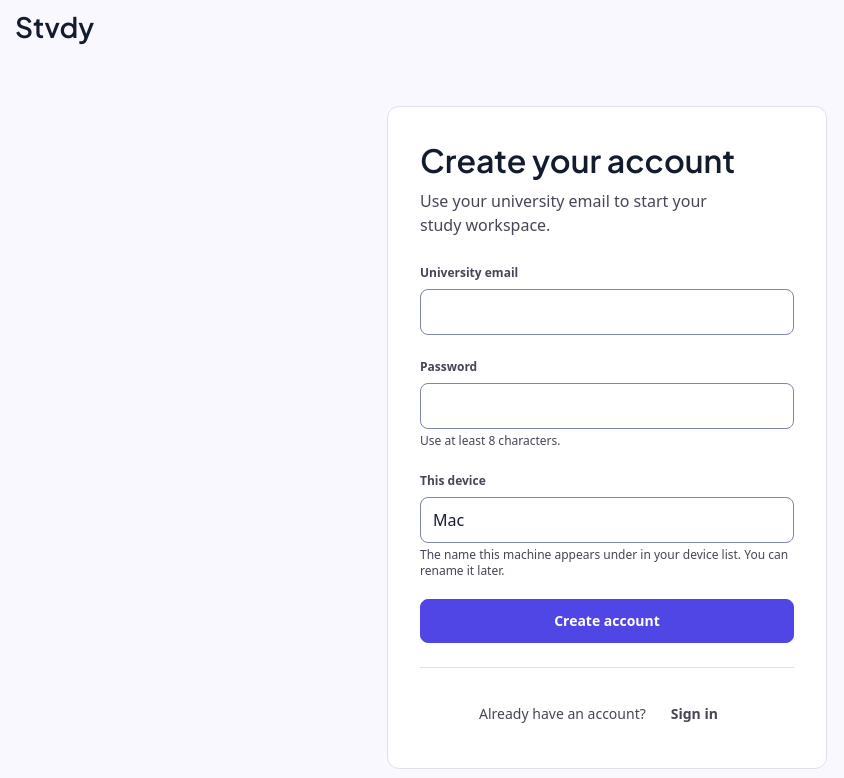
Test: signing up › puts a validation failure on the field it names
The image size is (844, 778).
In the field labelled "University email": (607, 312) [420,289,794,335], type "student@example.com"
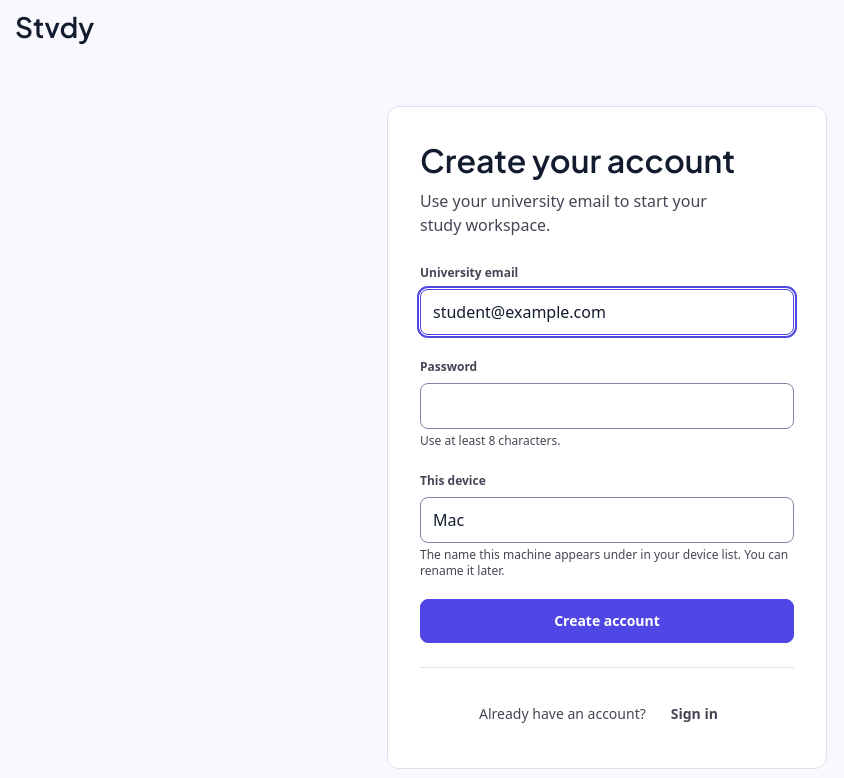
In the password field labelled "Password": (607, 406) [420,383,794,429], type "short"
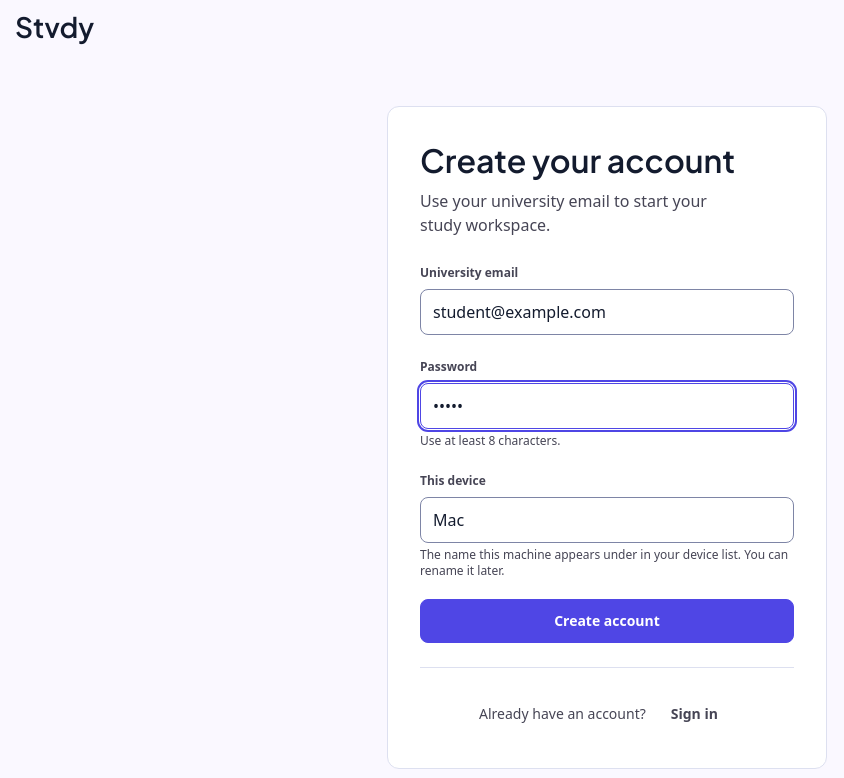
Click the button "Create account": click(607, 621) [420,599,794,643]
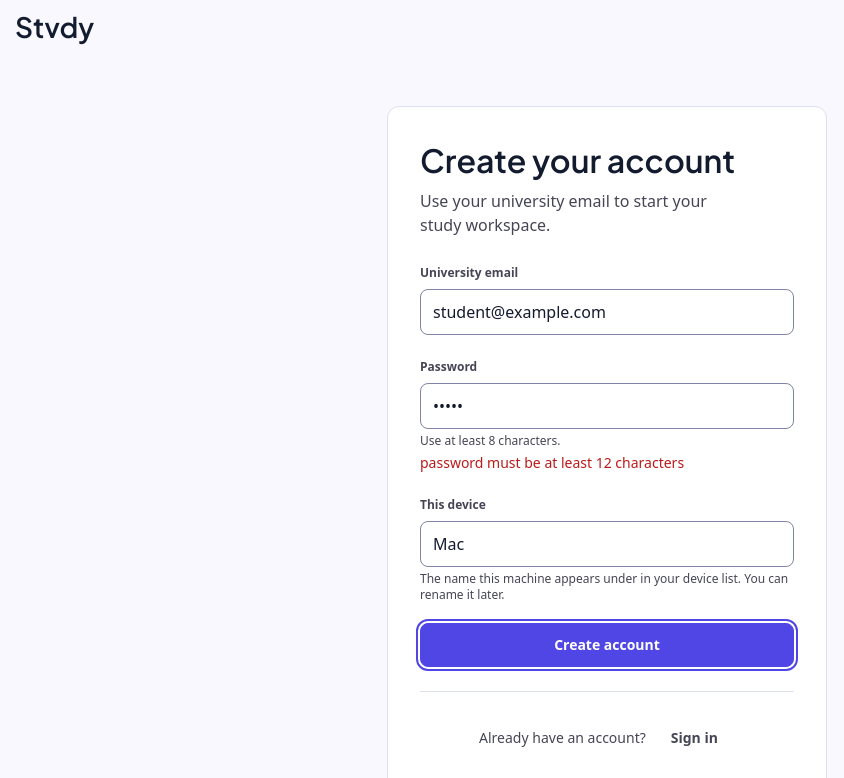
Now the text "password must be at least 12 characters" is shown, box [420,453,684,472]
